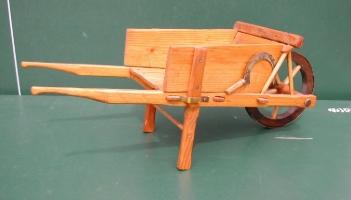BROUETTE: (7, 15, 328, 177)
